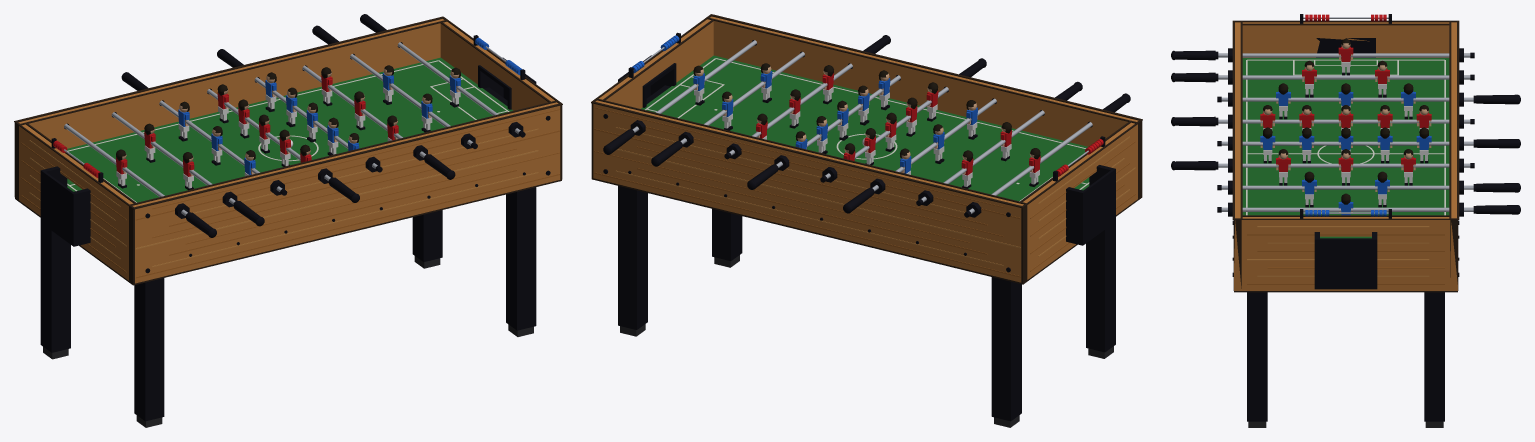
File: foosball_table.glb
3 renders of one model, left to right at view 1: azimuth 30°, elevation 25°; view 2: azimuth 150°, elevation 25°; view 3: azimuth 270°, elevation 25°, orthographic. The views are drawn at different scales.
Parts seen in each view (by area): view 1: creature; view 2: creature; view 3: creature.
Boxes of the visible parts, left/top/right/bottom form: creature: left=14, top=14, right=562, bottom=427; creature: left=591, top=14, right=1142, bottom=427; creature: left=1171, top=14, right=1520, bottom=427.
Bounding box in the file's own units: 2.03 × 0.9999 × 1.4.
